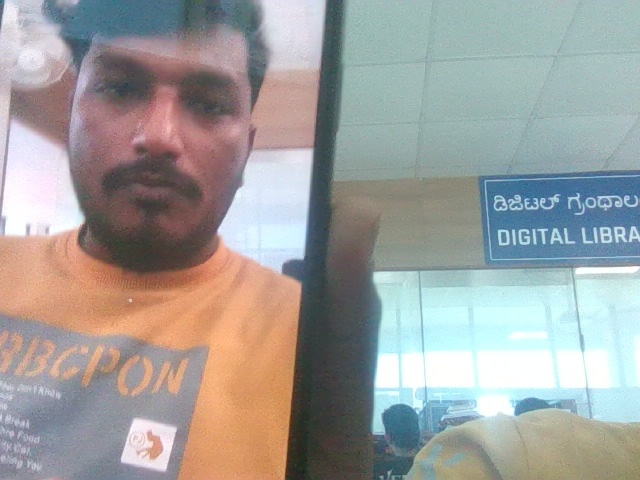fake: (42, 0, 282, 340)
